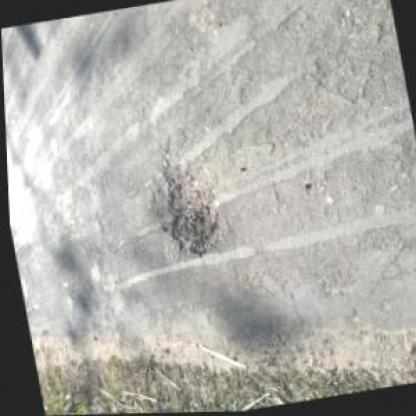pothole: (140, 143, 227, 262)
